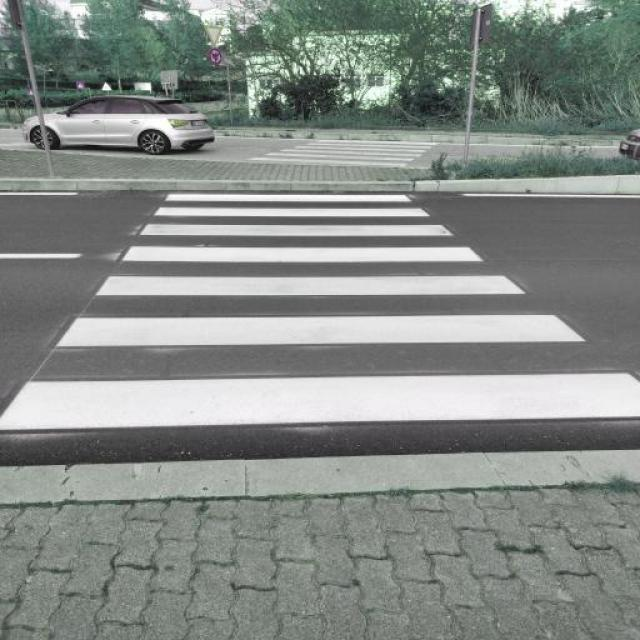crosswalk: (0, 191, 639, 431), (255, 139, 442, 167)
